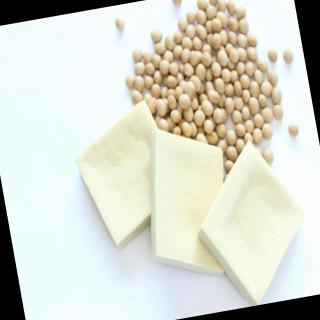Tahu: (39, 73, 320, 320)
